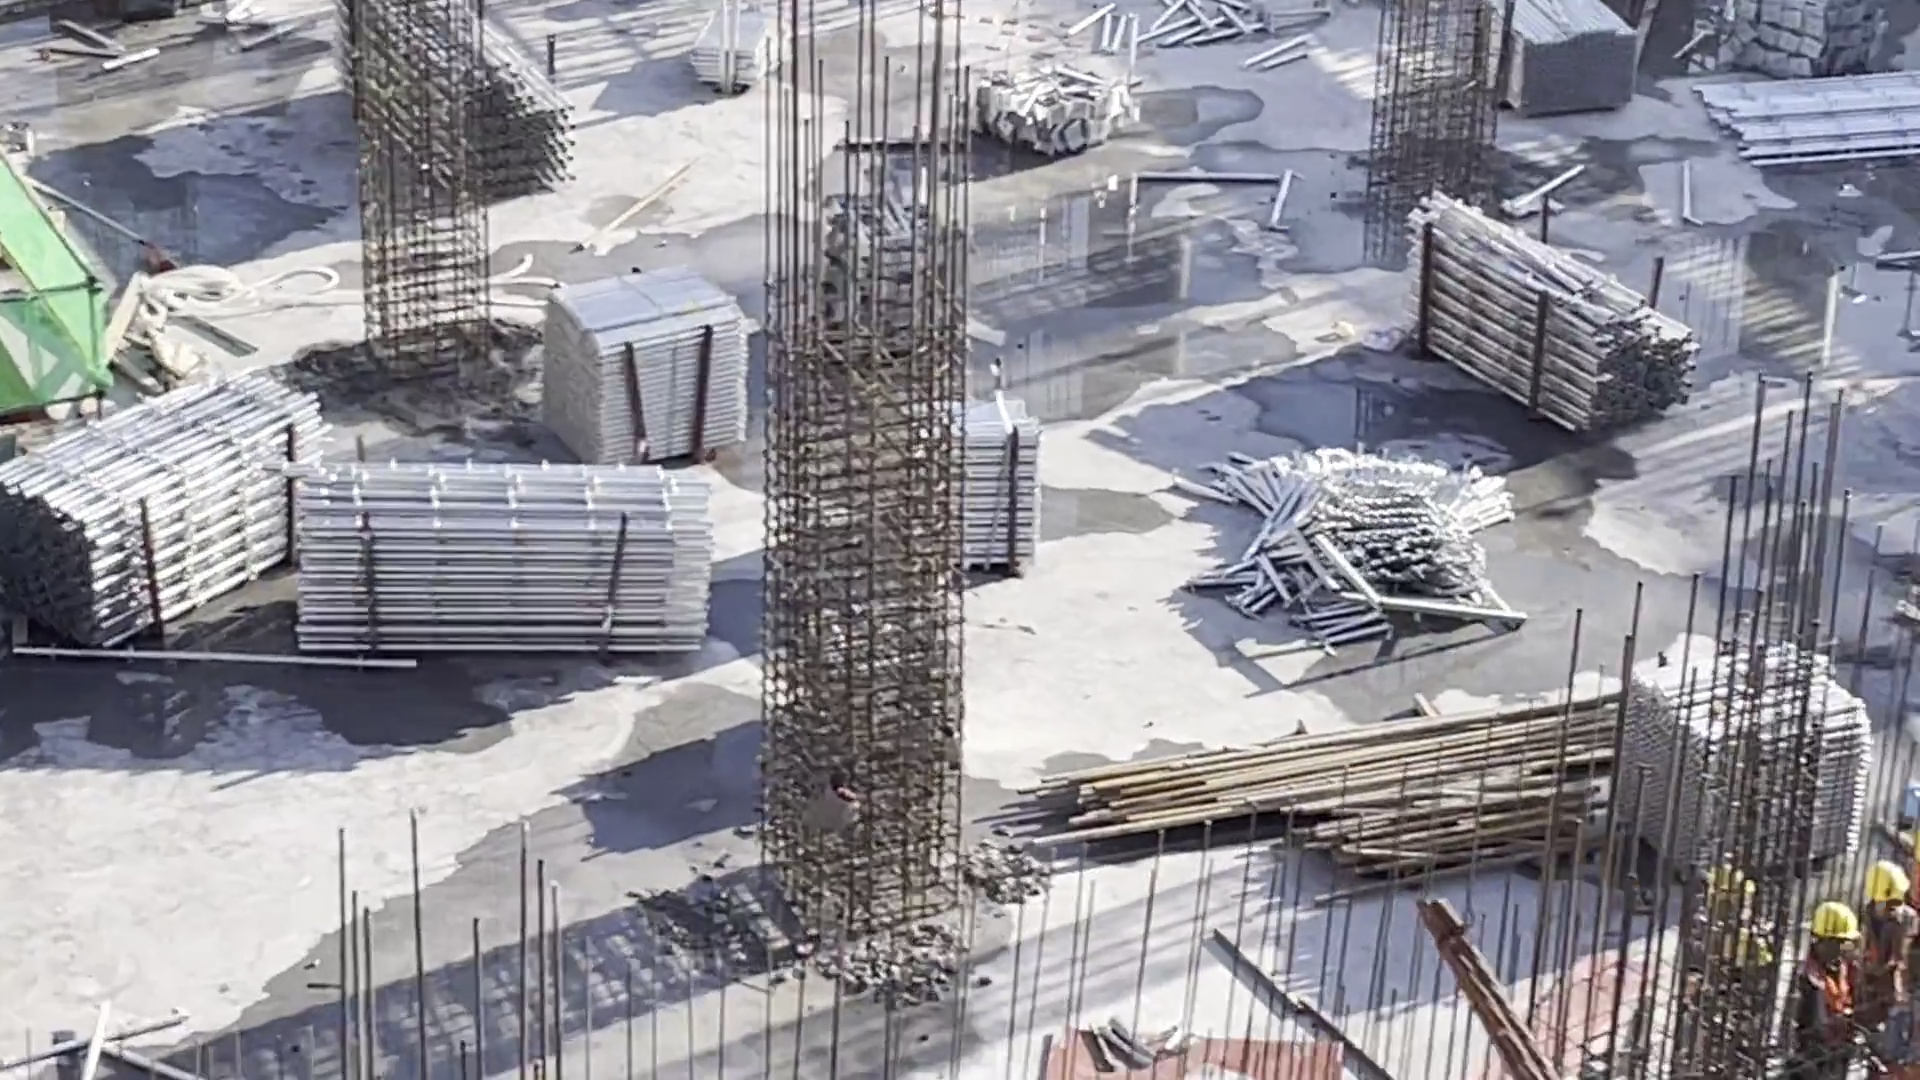helmet: (1860, 858, 1910, 902), (1813, 906, 1859, 948)
person: (1787, 889, 1865, 1080), (1850, 850, 1914, 1023)
scaffold: (25, 384, 319, 645), (320, 479, 680, 657), (1397, 224, 1657, 432), (368, 1, 581, 219), (1657, 643, 1857, 865), (1264, 472, 1482, 632), (580, 289, 755, 464), (948, 405, 1045, 588), (1727, 78, 1920, 163), (1510, 1, 1627, 104), (683, 4, 768, 90)
vest: (1784, 946, 1848, 1056), (1857, 919, 1908, 1023)
